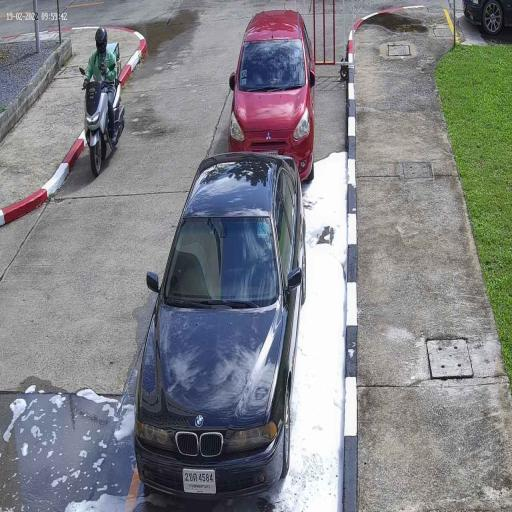car: (132, 153, 308, 505), (226, 6, 318, 186)
motorcycle: (82, 76, 126, 180)
